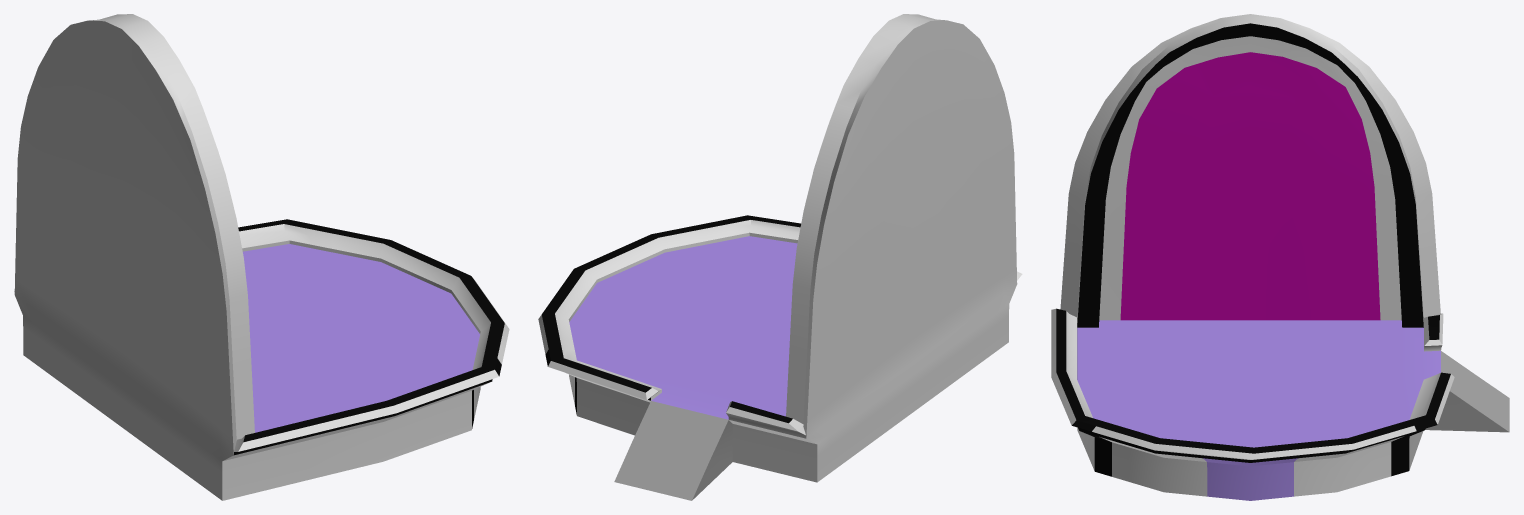
Rendered from tavernstage.fbx.
The picture shows the model from 3 angles, left to right: view 1: azimuth 30°, elevation 25°; view 2: azimuth 150°, elevation 25°; view 3: azimuth 270°, elevation 25°; orthographic projection. The views are drawn at different scales.
Visible parts, largest first — view 1: TavernStage; view 2: TavernStage; view 3: TavernStage.
Part boxes in pixels (x1=…): TavernStage: x1=14, y1=14, x2=509, y2=500; TavernStage: x1=538, y1=14, x2=1022, y2=500; TavernStage: x1=1051, y1=14, x2=1509, y2=500.
Bounding box in the file's own units: 3497 × 3798 × 4496.
